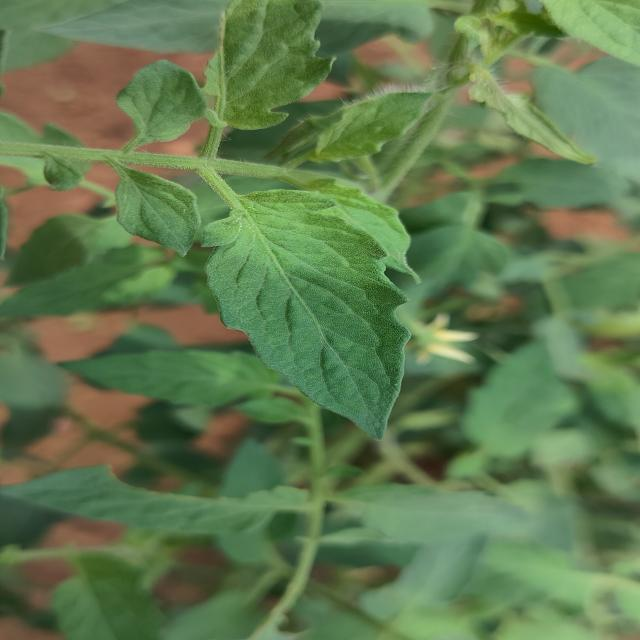tomato_healthy: (185, 181, 422, 442)
